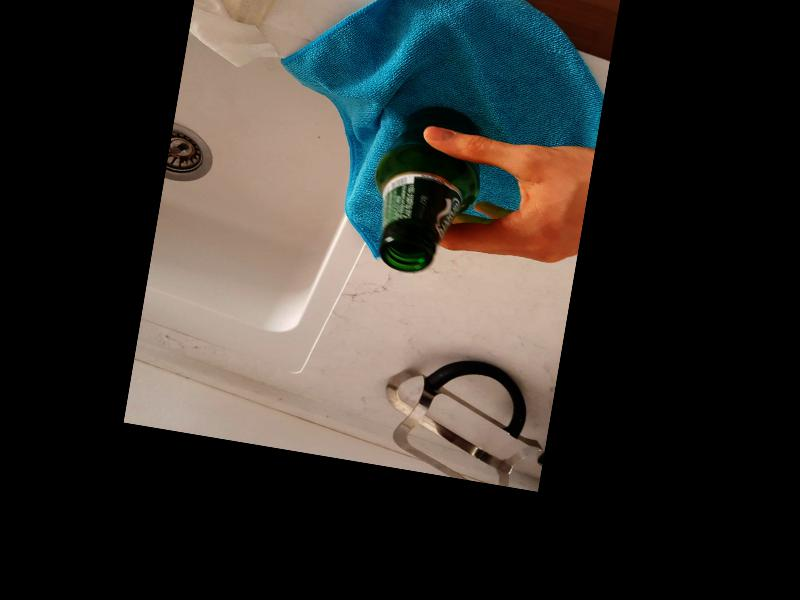Beer: (362, 96, 483, 277)
